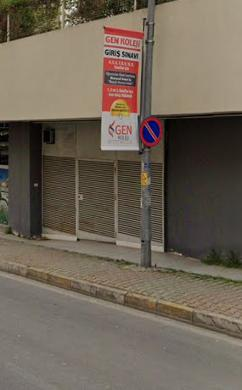nopark: (140, 117, 163, 147)
